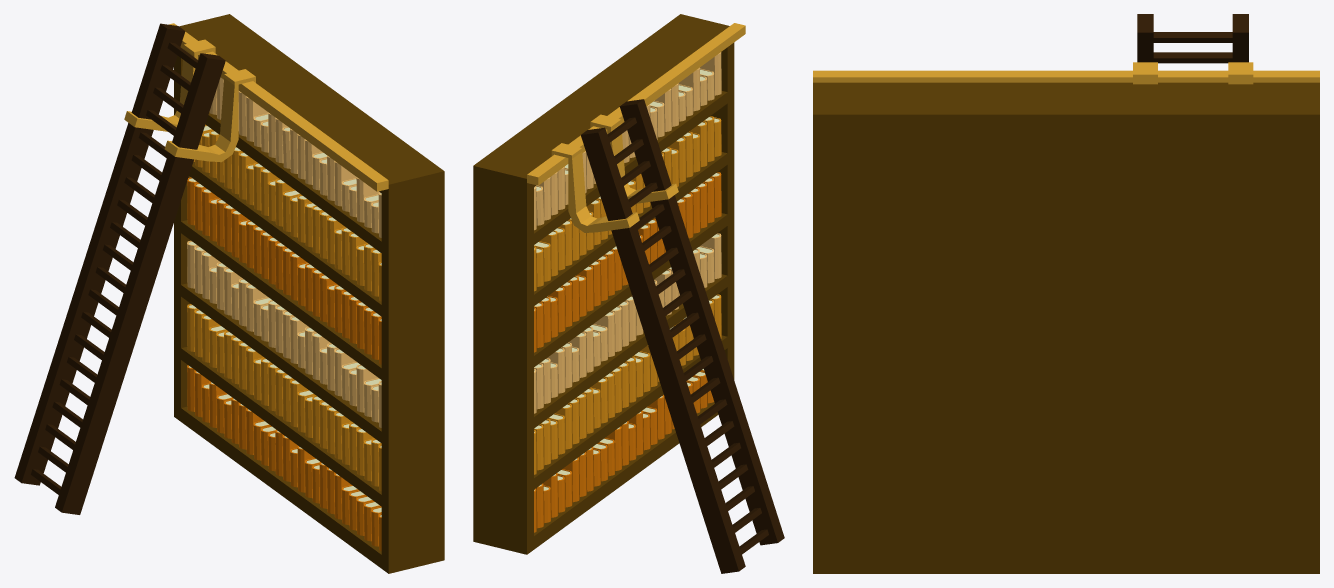
The model's file is bookCase_XL_ladder_filled.fbx.
The picture shows the model from 3 angles, left to right: view 1: azimuth 30°, elevation 25°; view 2: azimuth 150°, elevation 25°; view 3: azimuth 270°, elevation 25°; orthographic projection. The views are drawn at different scales.
Parts seen in each view (by area): view 1: bookCase_XL_ladder_filled; view 2: bookCase_XL_ladder_filled; view 3: bookCase_XL_ladder_filled.
Part boxes in pixels (<box>): bookCase_XL_ladder_filled: <box>14,14,444,573</box>; bookCase_XL_ladder_filled: <box>473,14,784,573</box>; bookCase_XL_ladder_filled: <box>813,14,1319,573</box>.
Bounding box in the file's own units: 132 × 219 × 200.
